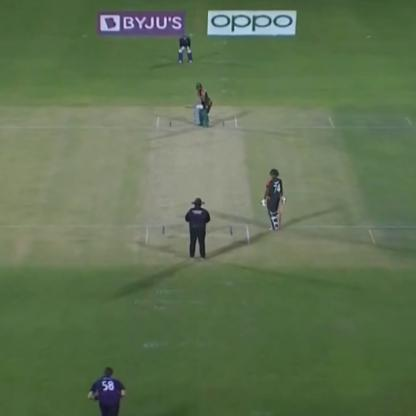pitch: (140, 108, 256, 255)
